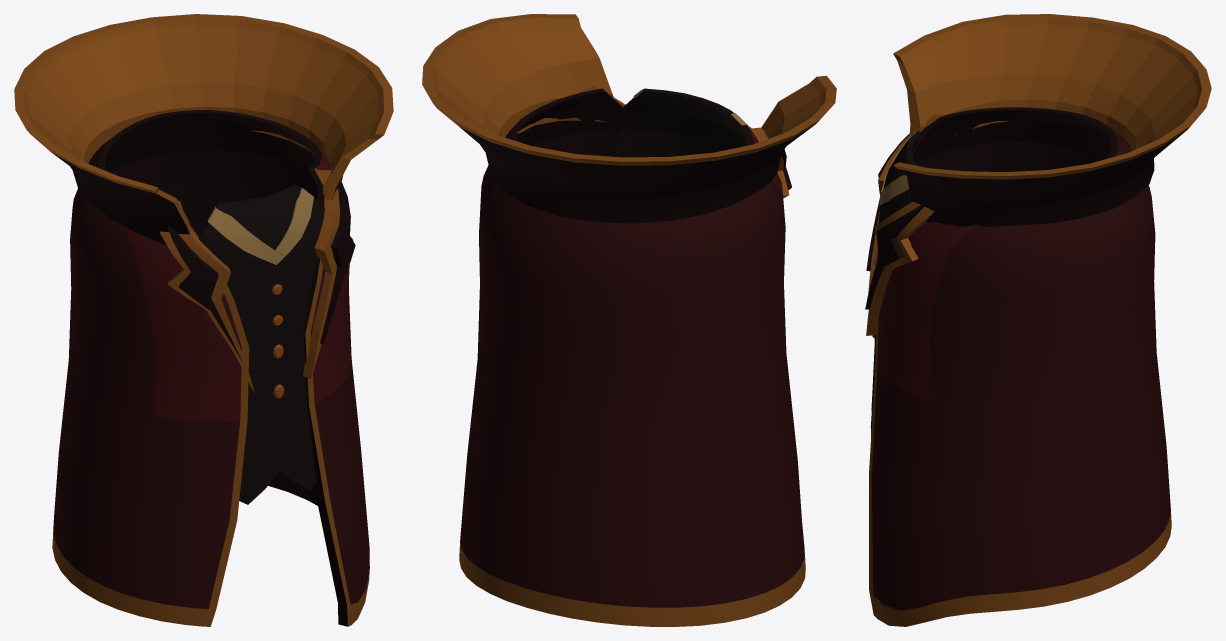
File: GamblersLongcoat.fbx
3 views of the same model, side by side, from view 1: azimuth 30°, elevation 25°; view 2: azimuth 150°, elevation 25°; view 3: azimuth 270°, elevation 25° (orthographic). The views are drawn at different scales.
Parts seen in each view (by area): view 1: LongcoatShell; view 2: LongcoatShell; view 3: LongcoatShell.
Part boxes in pixels (x1,y1,x2,y2): LongcoatShell: [14, 14, 393, 626]; LongcoatShell: [422, 14, 836, 626]; LongcoatShell: [865, 14, 1211, 626].
Bounding box in the file's own units: 0.3878 × 0.5549 × 0.3518.
Materials: 2 (2 with a texture image).
